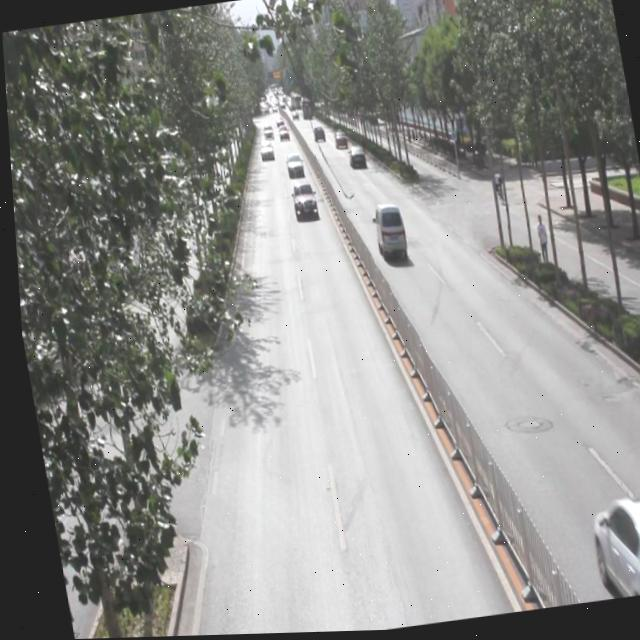car: (577, 489, 640, 603), (286, 181, 316, 224), (281, 152, 303, 181), (343, 144, 364, 173), (256, 141, 273, 165), (330, 130, 345, 153), (309, 124, 323, 144), (274, 126, 288, 145), (259, 124, 272, 142)
truck: (365, 204, 404, 264)
